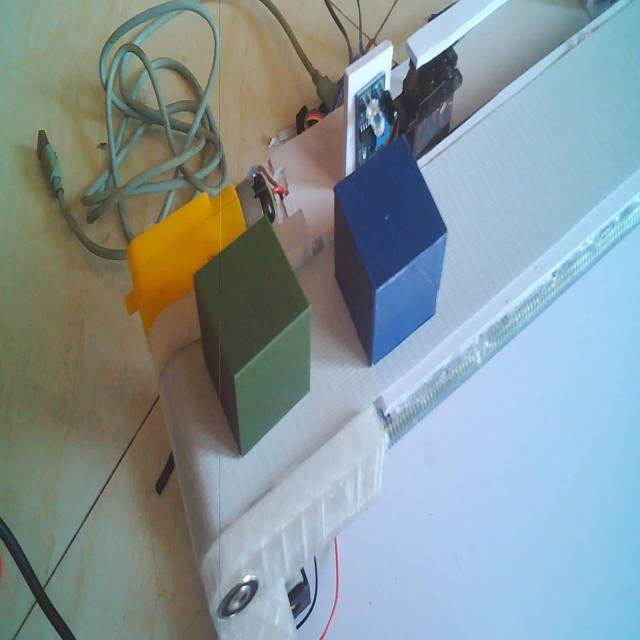blue: (329, 133, 449, 369)
green: (193, 210, 313, 462)
